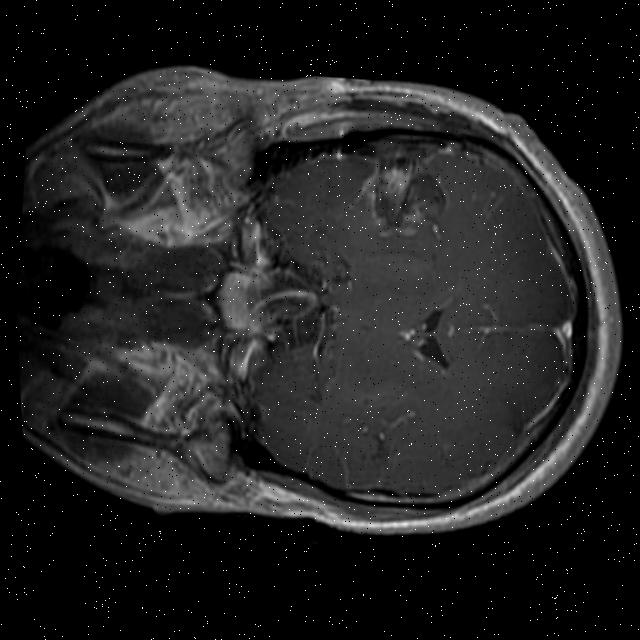Glioma: (363, 139, 455, 244)
Pituitary: (209, 269, 258, 333)
